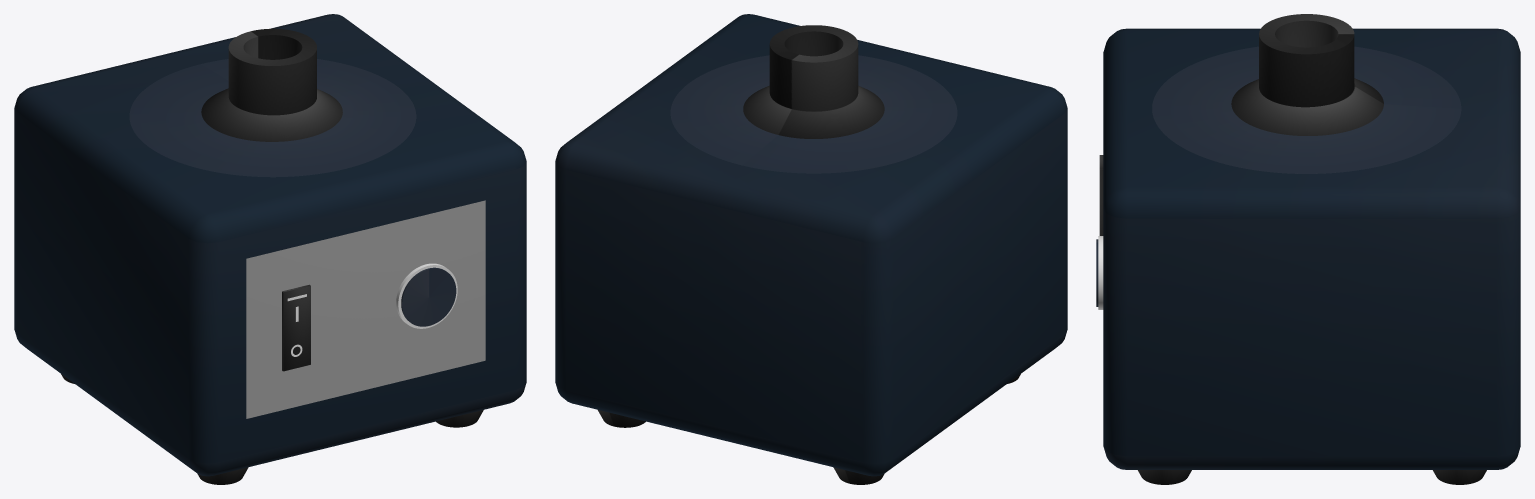
The model's file is 离心机.FBX.
3 renders of one model, left to right at view 1: azimuth 30°, elevation 25°; view 2: azimuth 150°, elevation 25°; view 3: azimuth 270°, elevation 25°, orthographic. The views are drawn at different scales.
Visible parts, largest first — view 1: ChamferBox001, Plane001, Cone001, Tube001, Cone002, Tube004, Box002, Tube003; view 2: ChamferBox001, Cone001, Tube001, Cone002; view 3: ChamferBox001, Cone001, Tube001, Cone002, Cone006, Cone005.
Part boxes in pixels (x1=…): ChamferBox001: x1=14, y1=14, x2=526, y2=476; Plane001: x1=246, y1=200, x2=485, y2=418; Cone001: x1=129, y1=59, x2=416, y2=177; Tube001: x1=228, y1=28, x2=316, y2=115; Cone002: x1=201, y1=88, x2=342, y2=141; Tube004: x1=401, y1=267, x2=456, y2=326; Box002: x1=282, y1=284, x2=310, y2=371; Tube003: x1=396, y1=263, x2=457, y2=328; ChamferBox001: x1=555, y1=14, x2=1067, y2=476; Cone001: x1=670, y1=55, x2=957, y2=173; Tube001: x1=769, y1=25, x2=858, y2=111; Cone002: x1=743, y1=85, x2=884, y2=138; ChamferBox001: x1=1103, y1=28, x2=1520, y2=469; Cone001: x1=1152, y1=46, x2=1461, y2=173; Tube001: x1=1259, y1=14, x2=1354, y2=107; Cone002: x1=1231, y1=78, x2=1383, y2=135; Cone006: x1=1433, y1=470, x2=1486, y2=484; Cone005: x1=1138, y1=470, x2=1191, y2=484.
Size of the model in its own units: 35 by 35.06 by 35.6.
5 materials, 5 textured.
